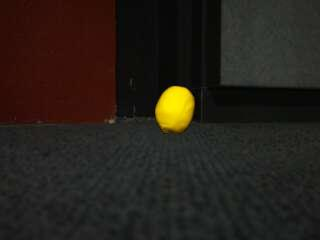Lemon: (155, 87, 197, 136)
